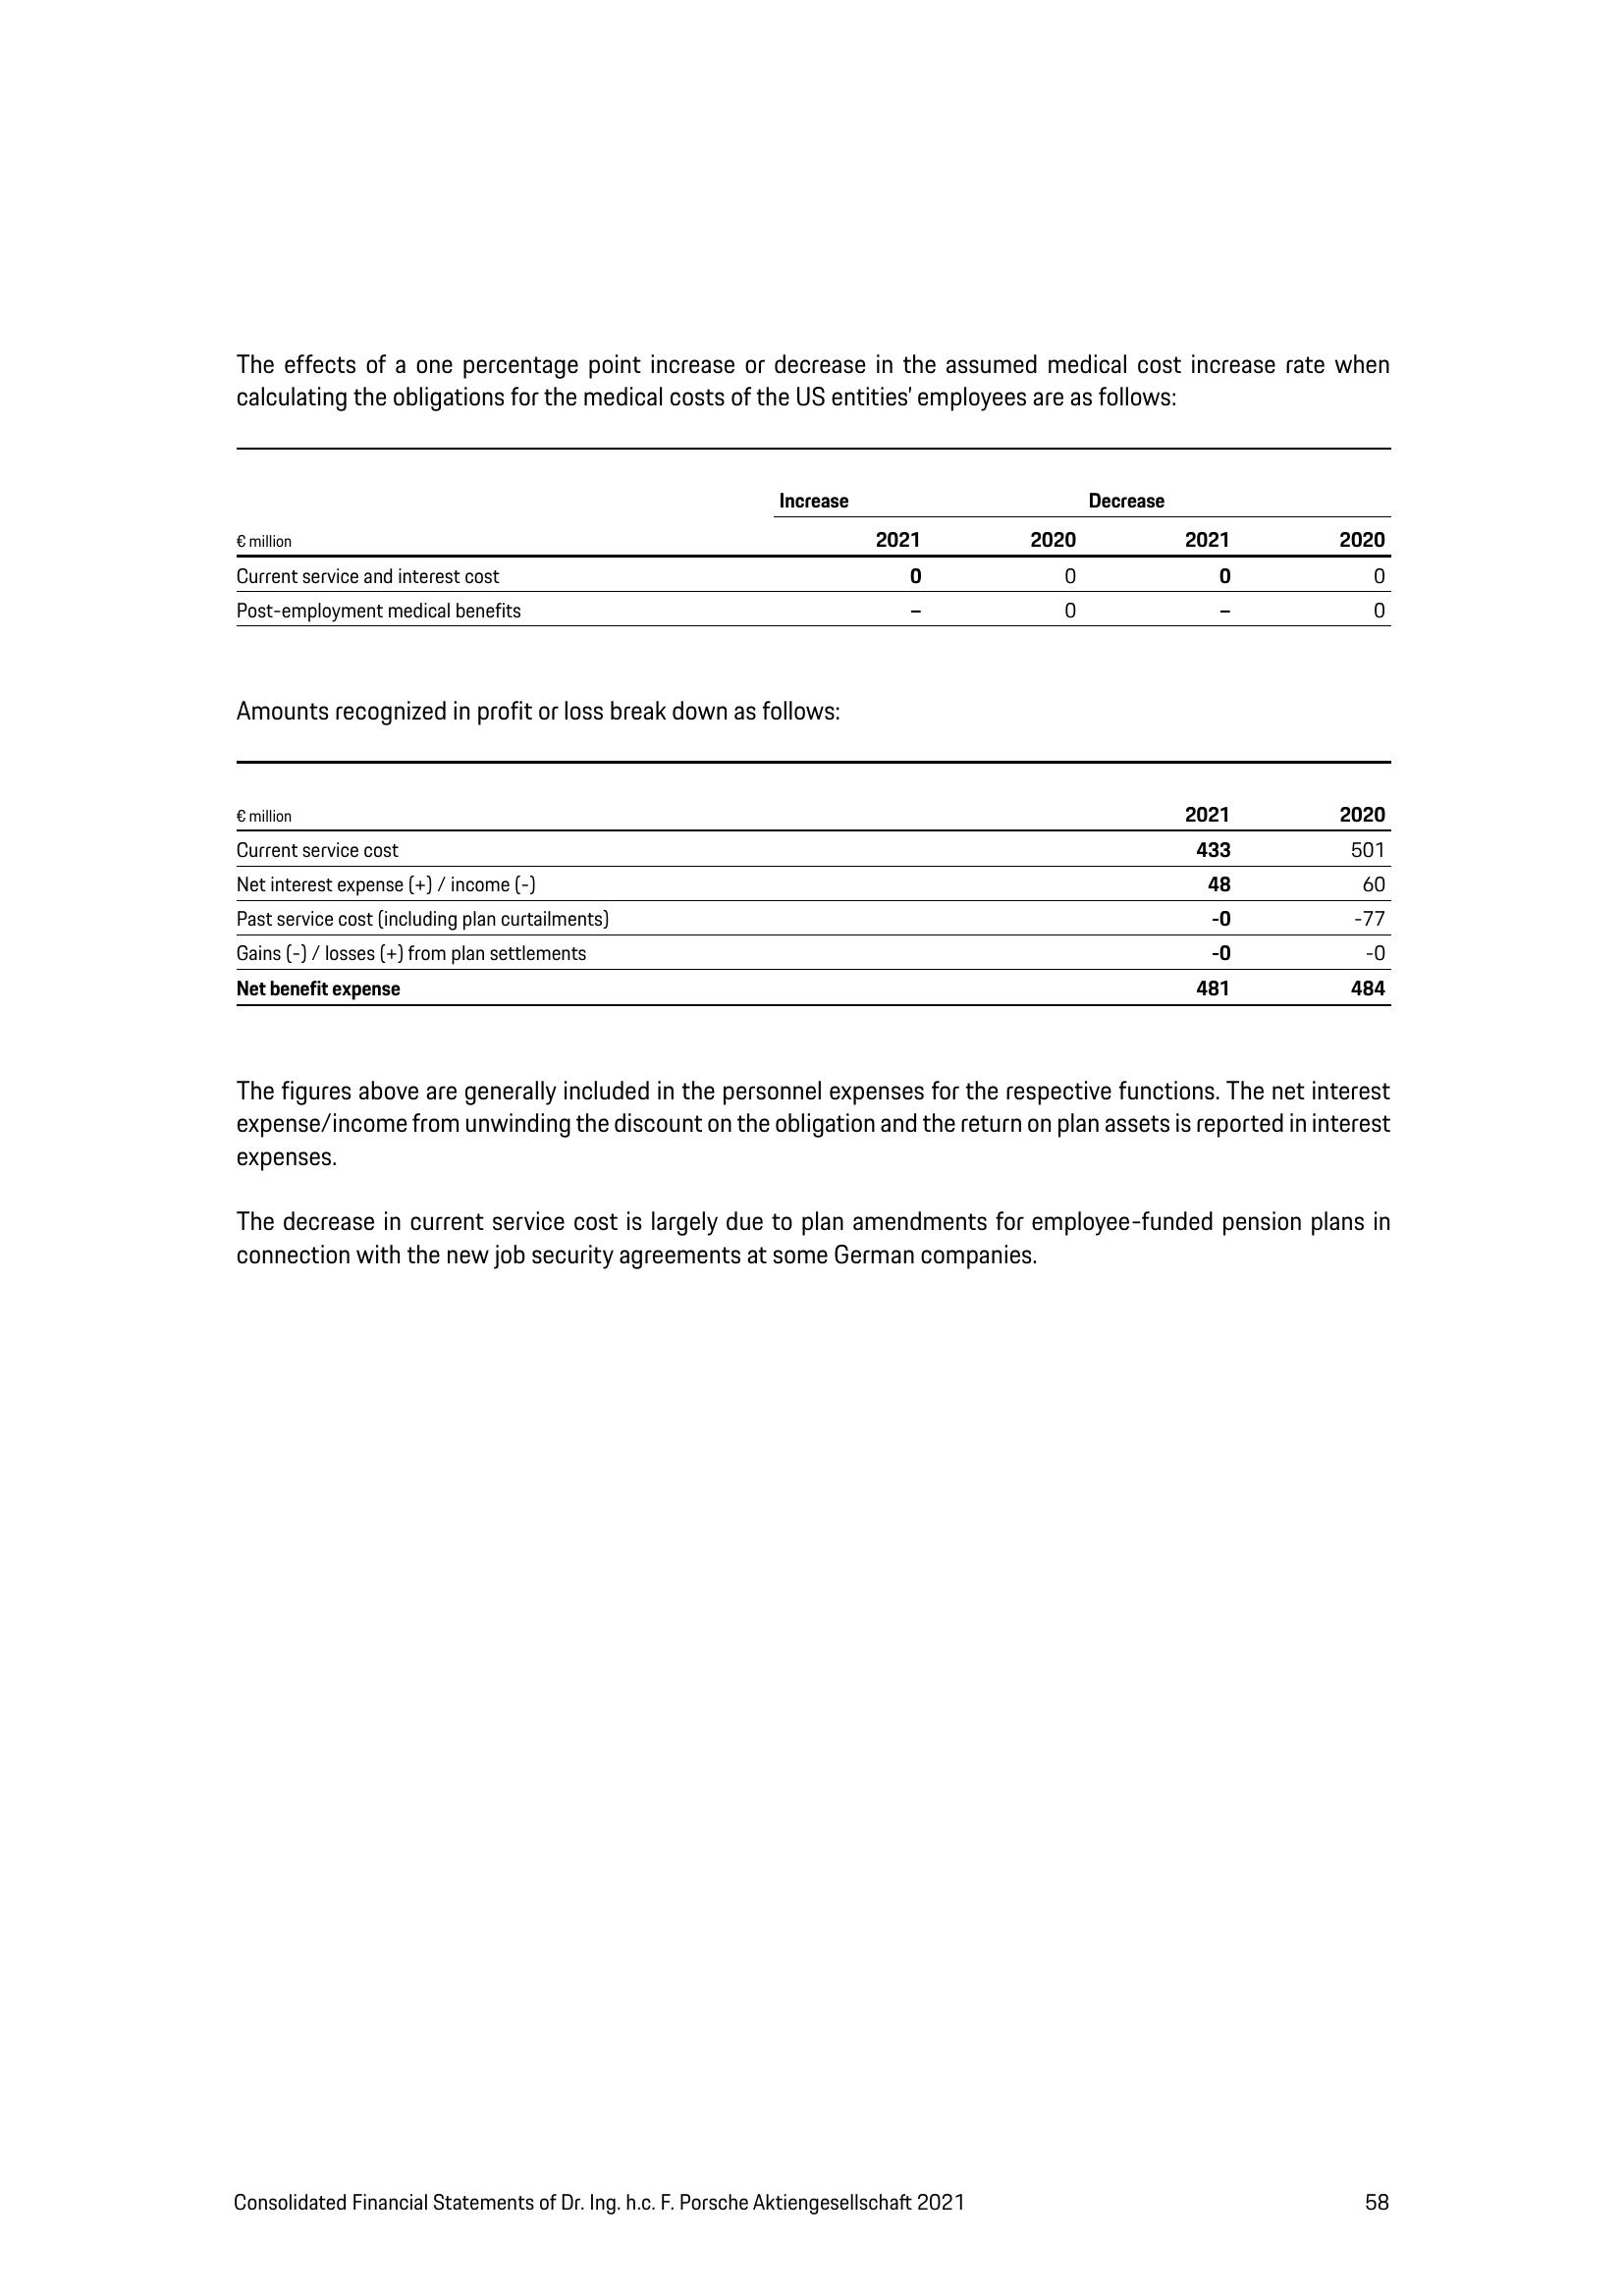Footer: (0, 2131, 1624, 2296)
Header: (0, 0, 1624, 223)
Table: (213, 757, 1434, 1029), (213, 448, 1443, 675)
